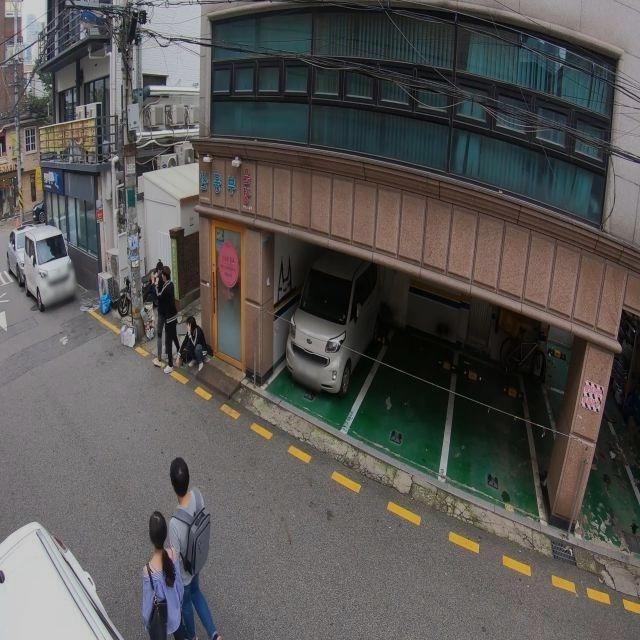fight: (152, 260, 180, 371)
non-fight: (160, 451, 225, 640), (144, 503, 189, 639), (178, 315, 207, 371)
